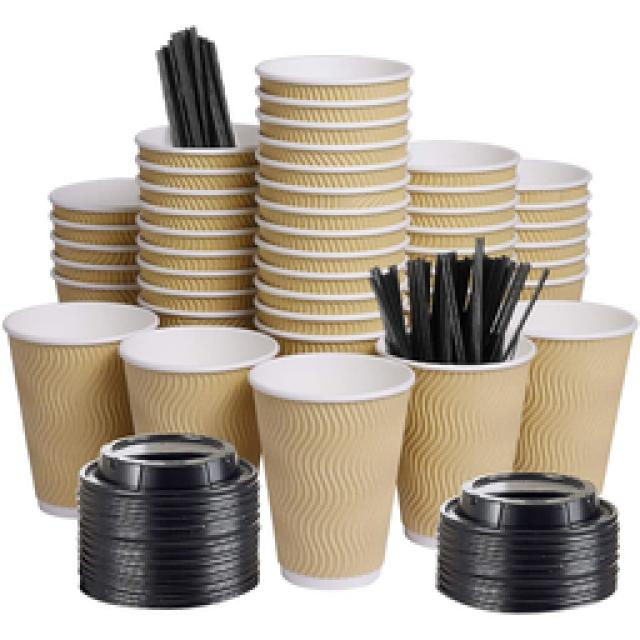paper_cups: (255, 349, 422, 588), (380, 328, 535, 552), (0, 301, 155, 523), (125, 327, 285, 472), (520, 301, 638, 485)
